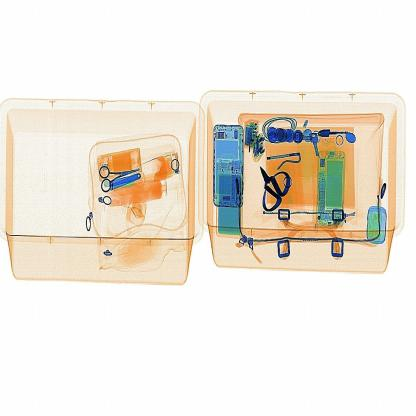gun: (256, 152, 304, 226)
